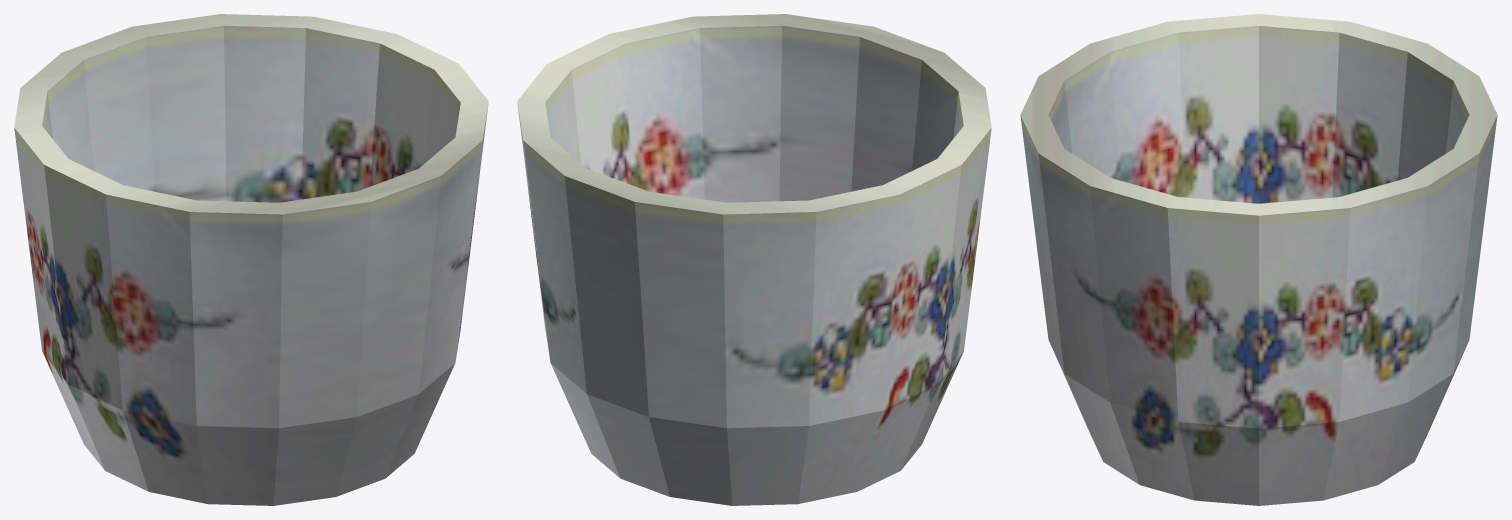
The model's file is cup.fbx.
3 renders of one model, left to right at view 1: azimuth 30°, elevation 25°; view 2: azimuth 150°, elevation 25°; view 3: azimuth 270°, elevation 25°, orthographic.
Visible parts, largest first — view 1: Mesh1; view 2: Mesh1; view 3: Mesh1.
Boxes of the visible parts, x1,y1,x2,y2 form: Mesh1: (14, 14, 488, 505); Mesh1: (517, 14, 991, 505); Mesh1: (1020, 14, 1497, 505).
Size of the model in its own units: 55.26 by 41.98 by 55.26.
